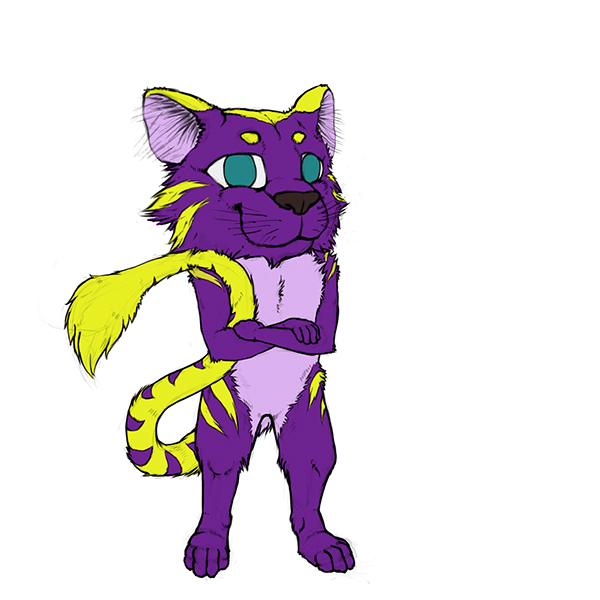cat: (52, 78, 372, 584)
